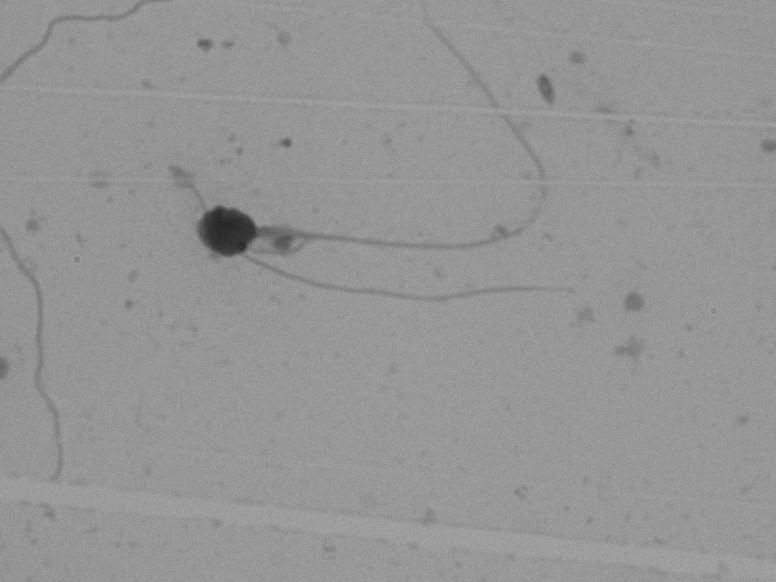Abnormal: (165, 15, 618, 308)
